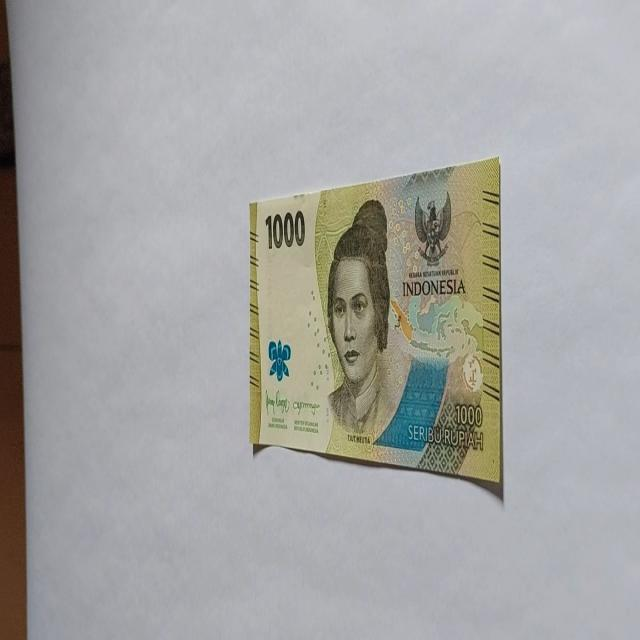seribu rupiah kertas: (248, 154, 502, 500)
